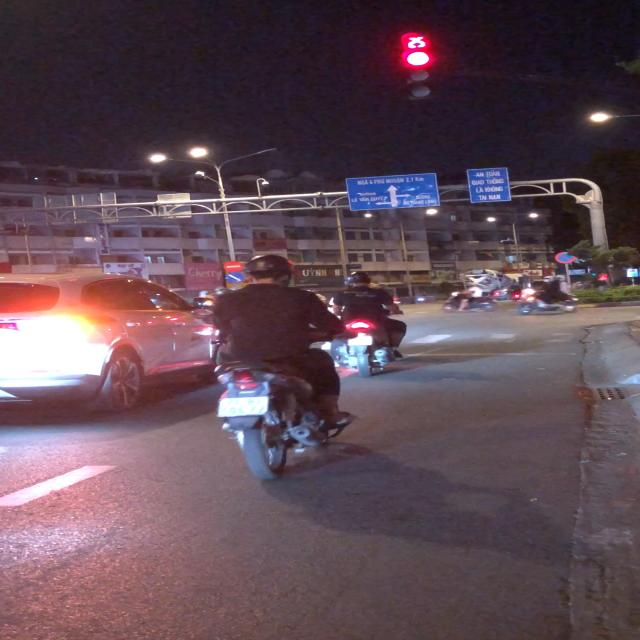Bien bao cam di nguoc chieu: (222, 260, 245, 271)
Bien bao cam do xe: (554, 251, 578, 265)
Bien bao huong phai di vong chuong ngai vat: (224, 272, 246, 284)
